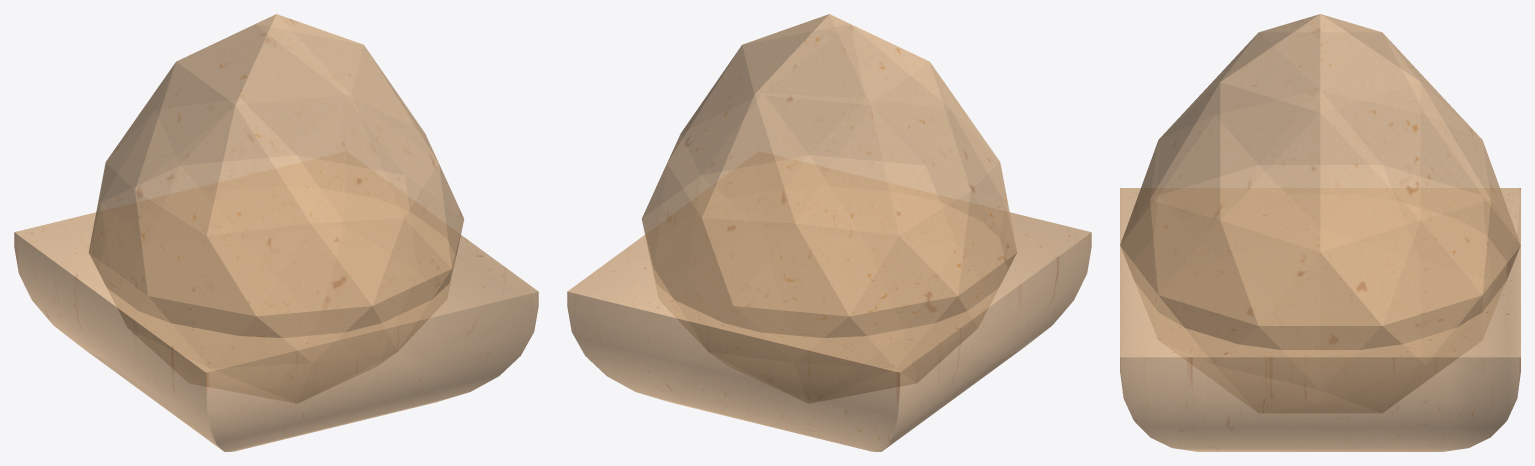
The model's file is egg.obj.
The picture shows the model from 3 angles, left to right: view 1: azimuth 30°, elevation 25°; view 2: azimuth 150°, elevation 25°; view 3: azimuth 270°, elevation 25°; orthographic projection. The views are drawn at different scales.
Parts seen in each view (by area): view 1: Icosphere, Plane; view 2: Icosphere, Plane; view 3: Icosphere, Plane.
Boxes of the visible parts, box(x1,y1,x2,y2) form: Icosphere: box(88, 14, 464, 403); Plane: box(14, 186, 538, 451); Icosphere: box(641, 14, 1017, 403); Plane: box(567, 186, 1091, 451); Icosphere: box(1120, 14, 1520, 412); Plane: box(1120, 188, 1520, 451).
Bounding box in the file's own units: 2 × 2.2 × 2.
1 material, 1 textured.
